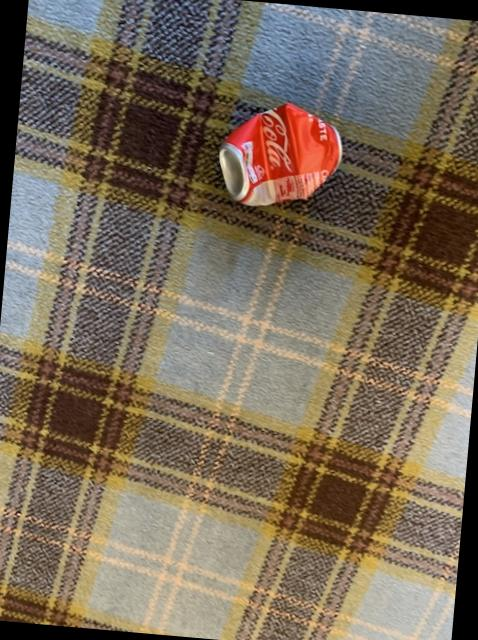metal: (217, 100, 339, 202)
